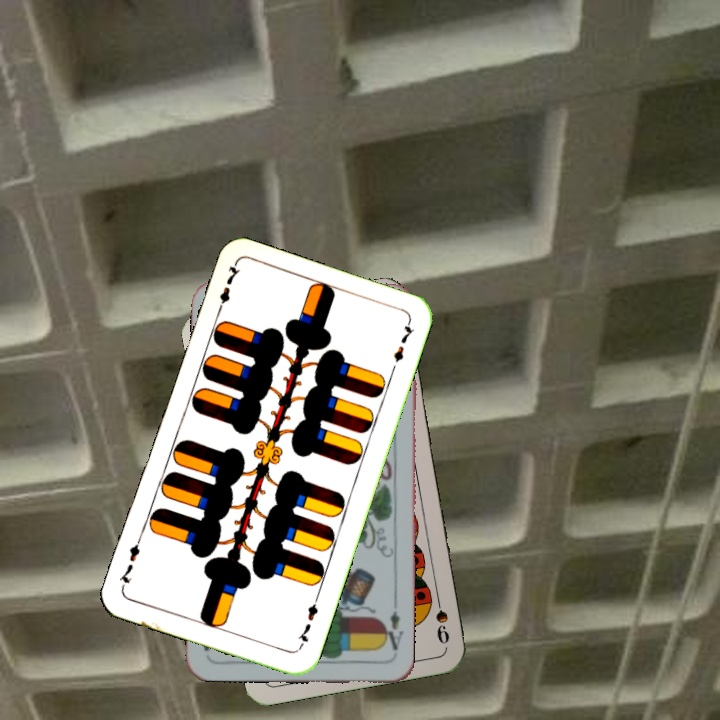E7: (212, 260, 242, 318), (293, 593, 321, 651)
EA: (379, 598, 406, 653)
S9: (431, 588, 452, 647)
